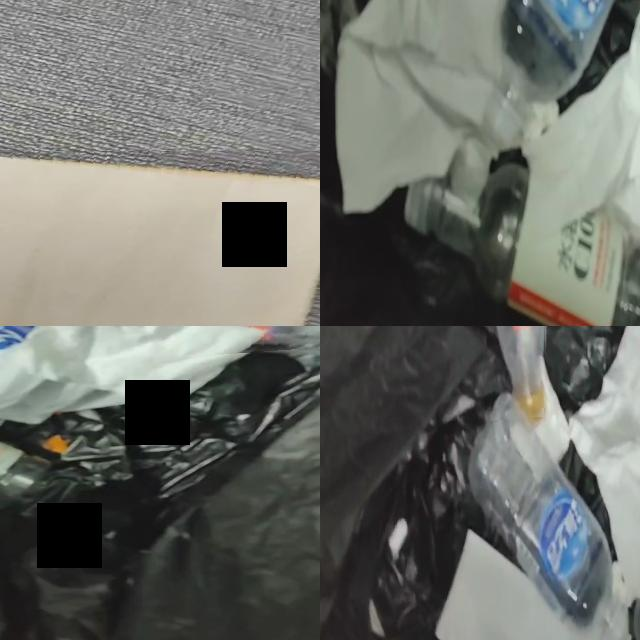bottle: (406, 154, 640, 326), (468, 396, 611, 626), (484, 0, 614, 146), (496, 326, 545, 419)
carton: (0, 161, 320, 326)
paper: (336, 0, 514, 211), (520, 10, 640, 251), (0, 326, 268, 425), (554, 326, 640, 598), (437, 531, 632, 640), (436, 531, 606, 640), (575, 326, 640, 546), (446, 133, 498, 203), (535, 367, 570, 460), (523, 101, 558, 142)
